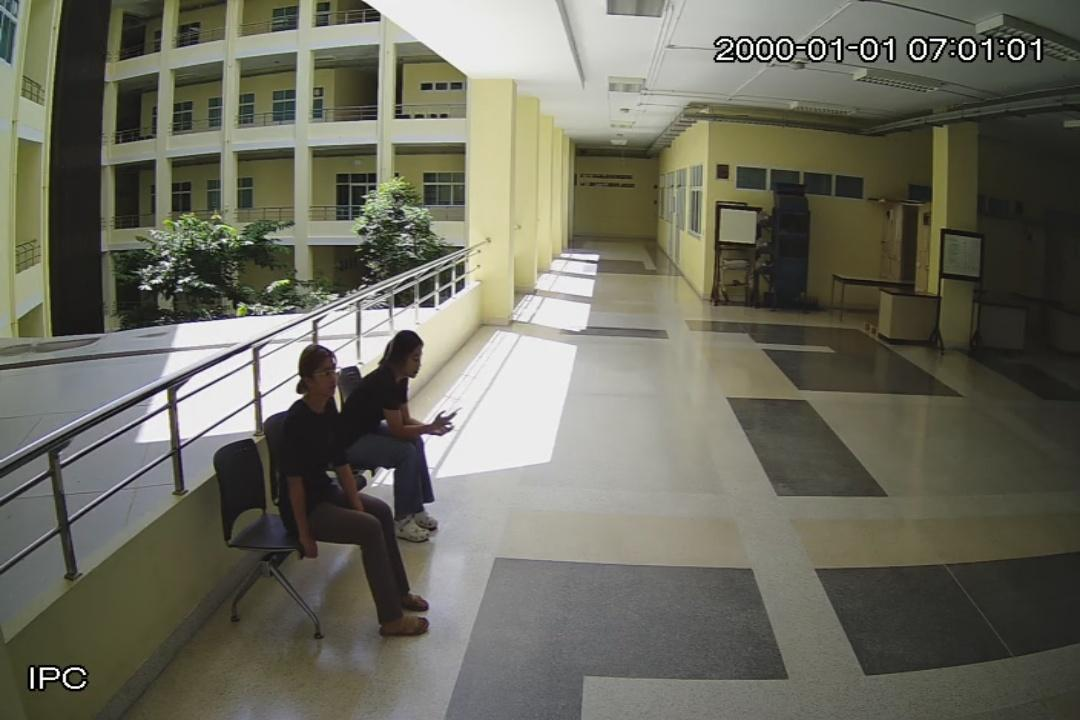normal: (279, 348, 445, 652), (349, 317, 448, 544)
